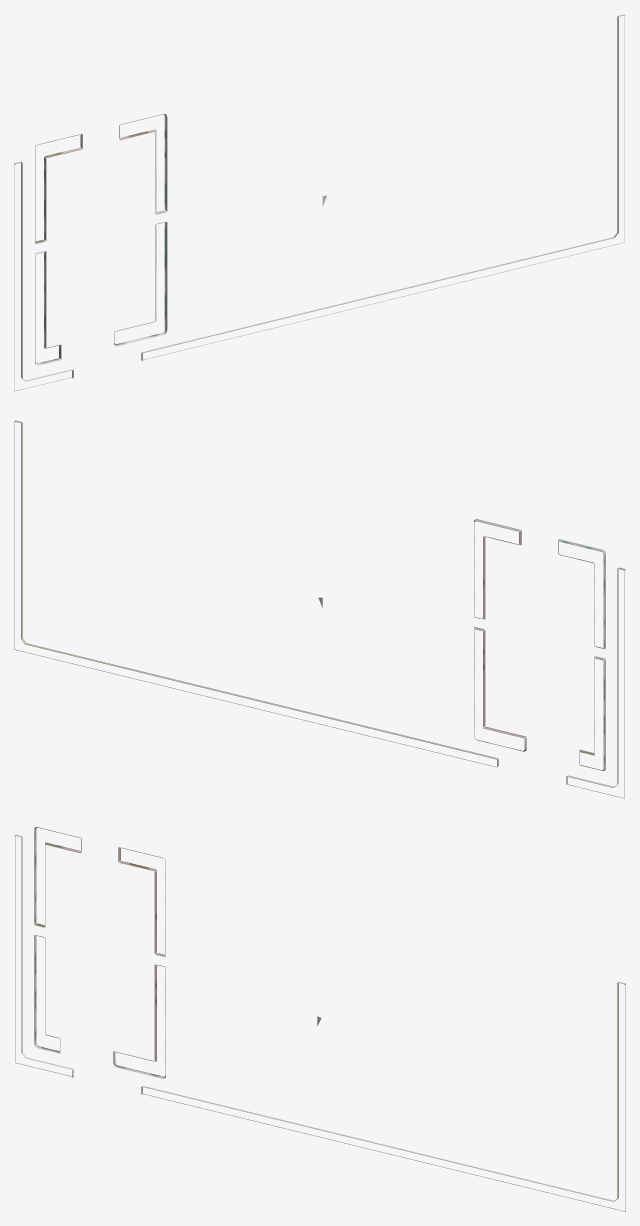
File: SM_000428_merge_wall02__002.fbx
3 renders of one model, top to bottom at view 1: azimuth 30°, elevation 25°; view 2: azimuth 150°, elevation 25°; view 3: azimuth 330°, elevation 25°, orthographic.
Parts seen in each view (by area): view 1: SM_000428.001; view 2: SM_000428.001; view 3: SM_000428.001.
Part boxes in pixels (left/top/right/bottom): SM_000428.001: left=14, top=14, right=625, bottom=391; SM_000428.001: left=14, top=420, right=625, bottom=798; SM_000428.001: left=14, top=827, right=625, bottom=1211.
Bounding box in the file's own units: 329 × 125 × 3.2.
